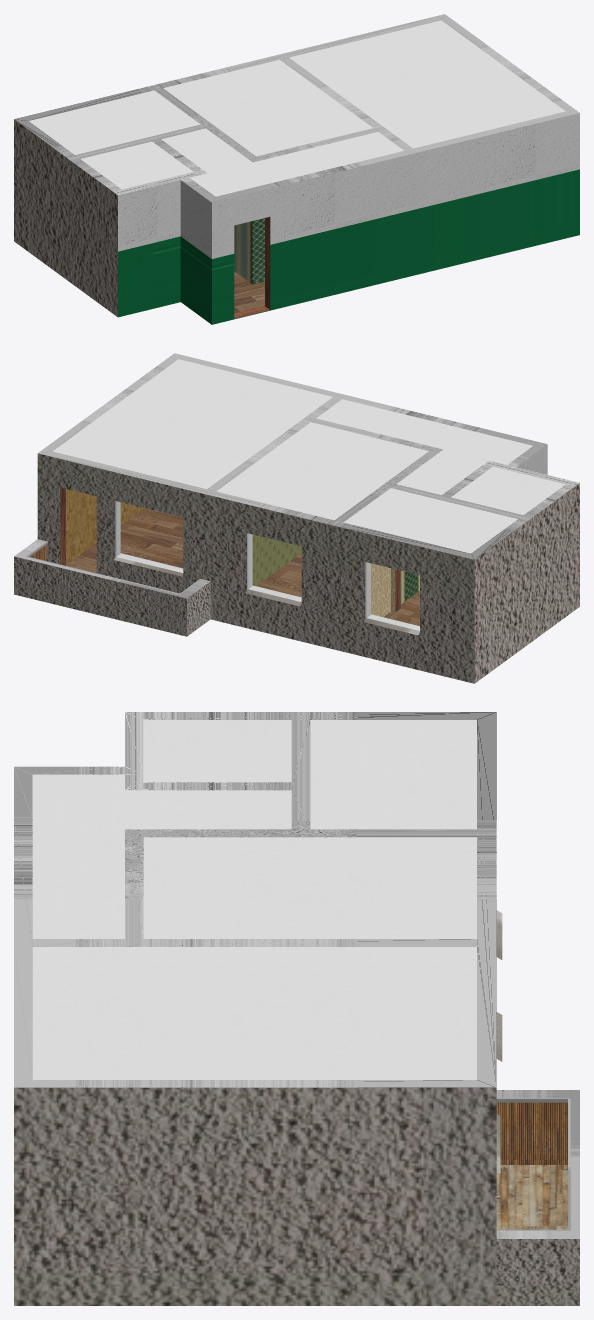
File: хрущёвка.fbx
3 views of the same model, one above another, from view 1: azimuth 30°, elevation 25°; view 2: azimuth 150°, elevation 25°; view 3: azimuth 270°, elevation 25° (orthographic). The views are drawn at different scales.
Visible parts, largest first — view 1: Куб; view 2: Куб; view 3: Куб.
Boxes of the visible parts, x1,y1,x2,y2 form: Куб: (14, 14, 579, 324); Куб: (14, 353, 579, 683); Куб: (14, 712, 579, 1305).
Size of the model in its own units: 960 by 260 by 611.
